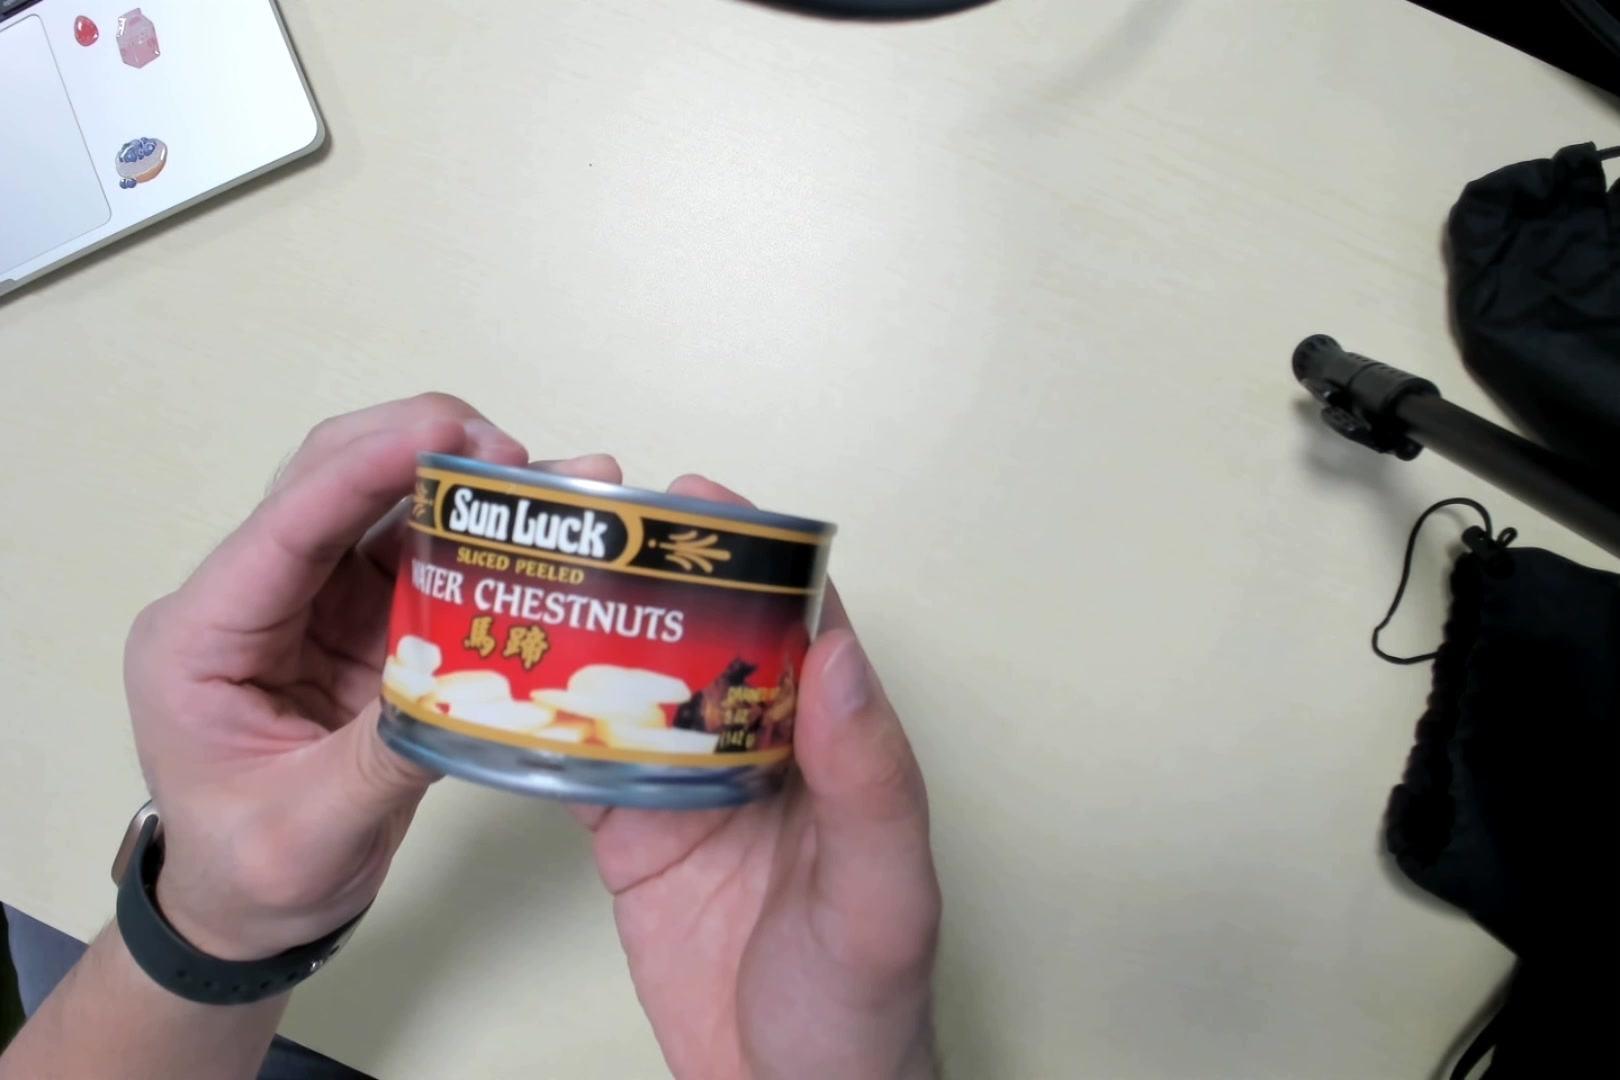CannedVegetarianFood_100-199g_Halal_NonHealthy: (385, 446, 826, 808)
